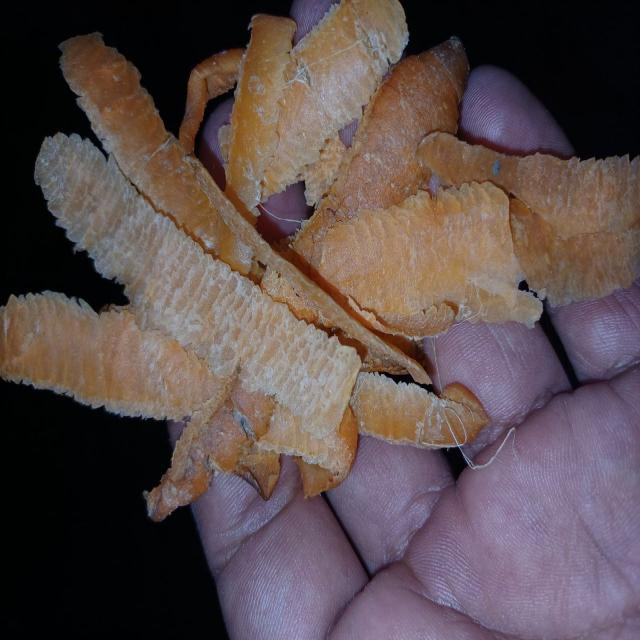organic: (2, 0, 640, 522)
